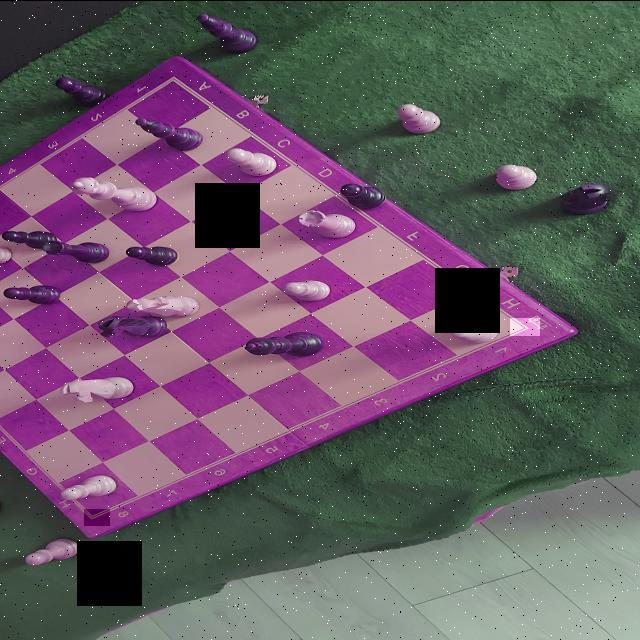chess-table-corners: (510, 317, 540, 335), (162, 72, 192, 90), (84, 508, 110, 525)
